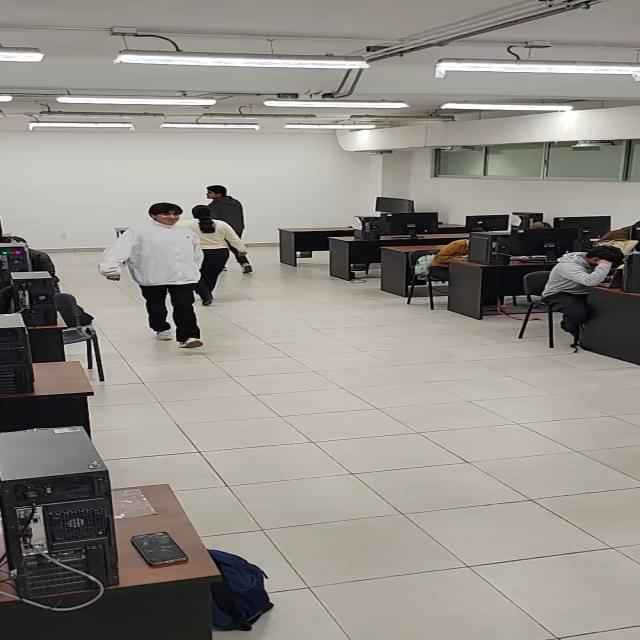Persona: (119, 200, 203, 348), (190, 204, 239, 305), (208, 186, 251, 235)
